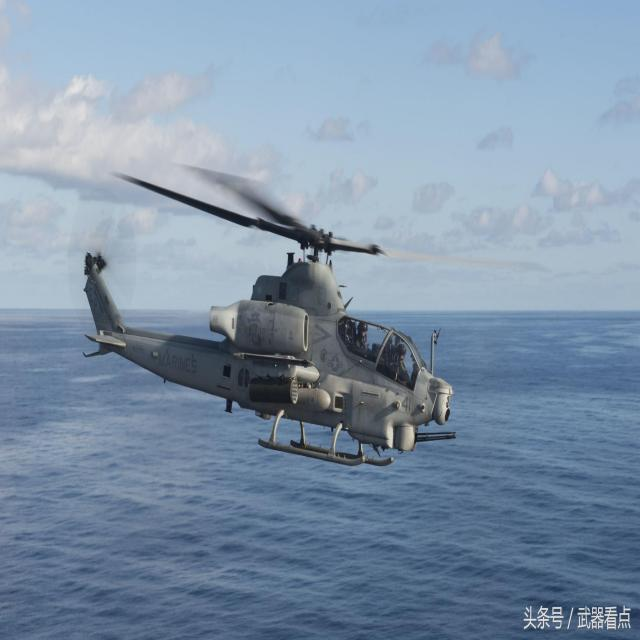MIL_HELO: (69, 149, 554, 476)
